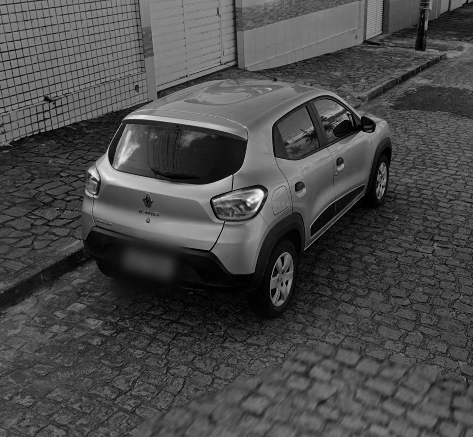car: (78, 63, 395, 320)
